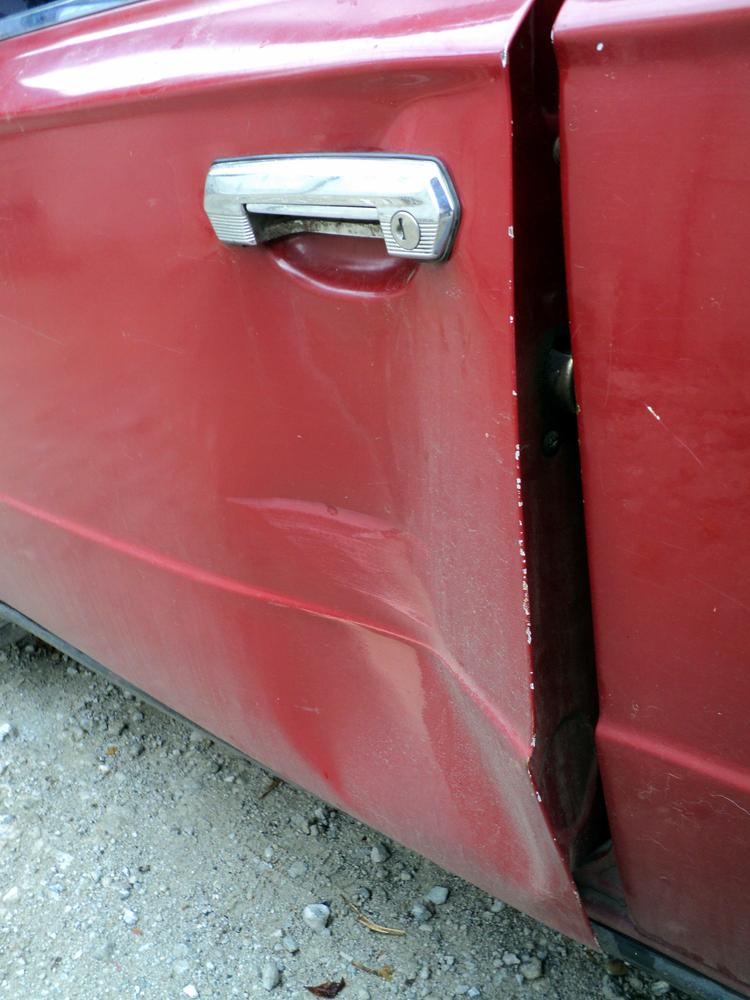dent: (202, 250, 537, 839)
